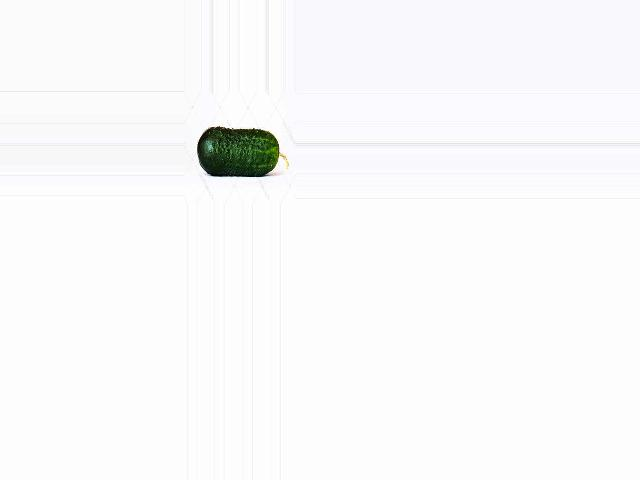cucumber: (197, 127, 288, 176)
